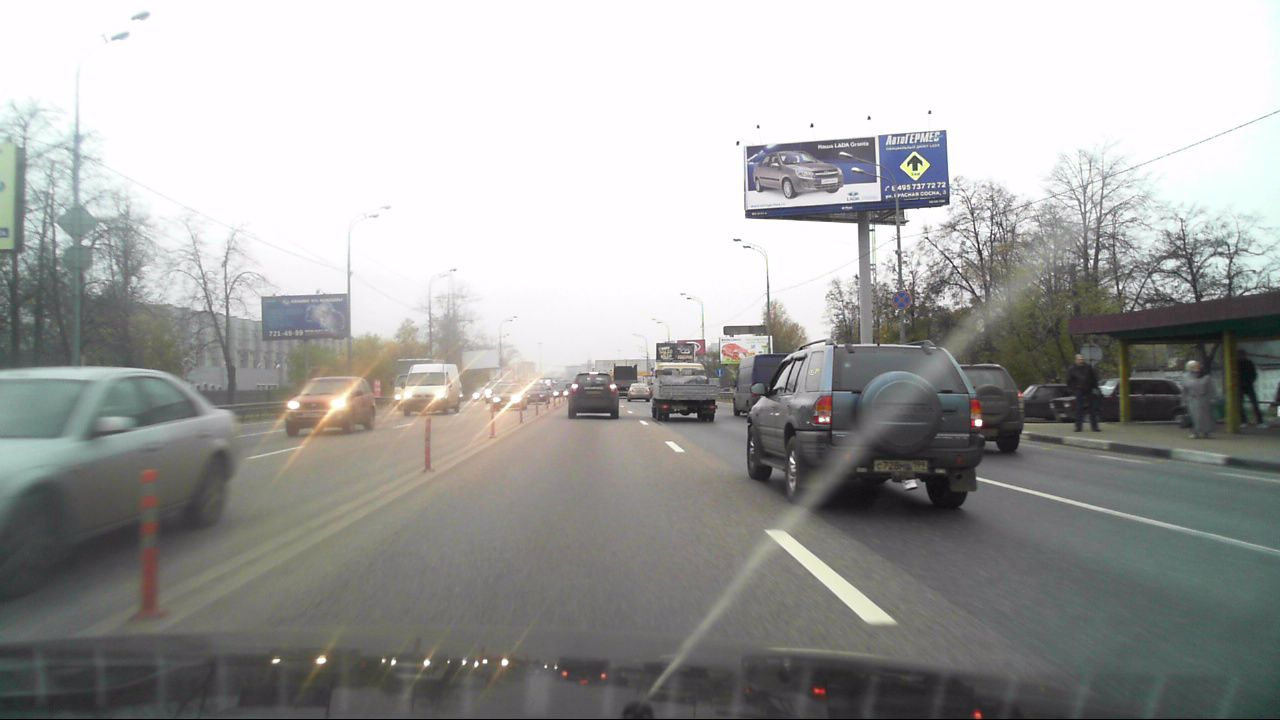No Parking: (893, 290, 911, 311)
